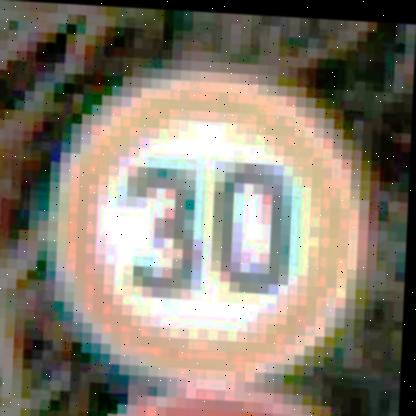Speed Limit -30-: (44, 50, 376, 383)
